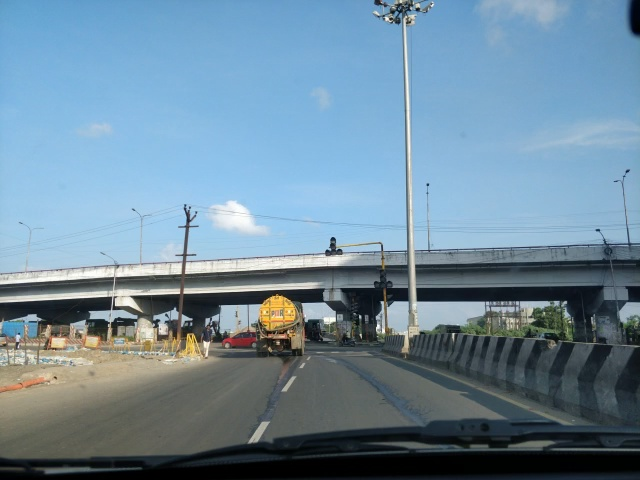car: (222, 325, 269, 357)
motorbike: (334, 332, 362, 350)
person: (199, 319, 212, 362), (8, 332, 32, 351)
truck: (255, 297, 310, 358), (435, 323, 469, 343)
